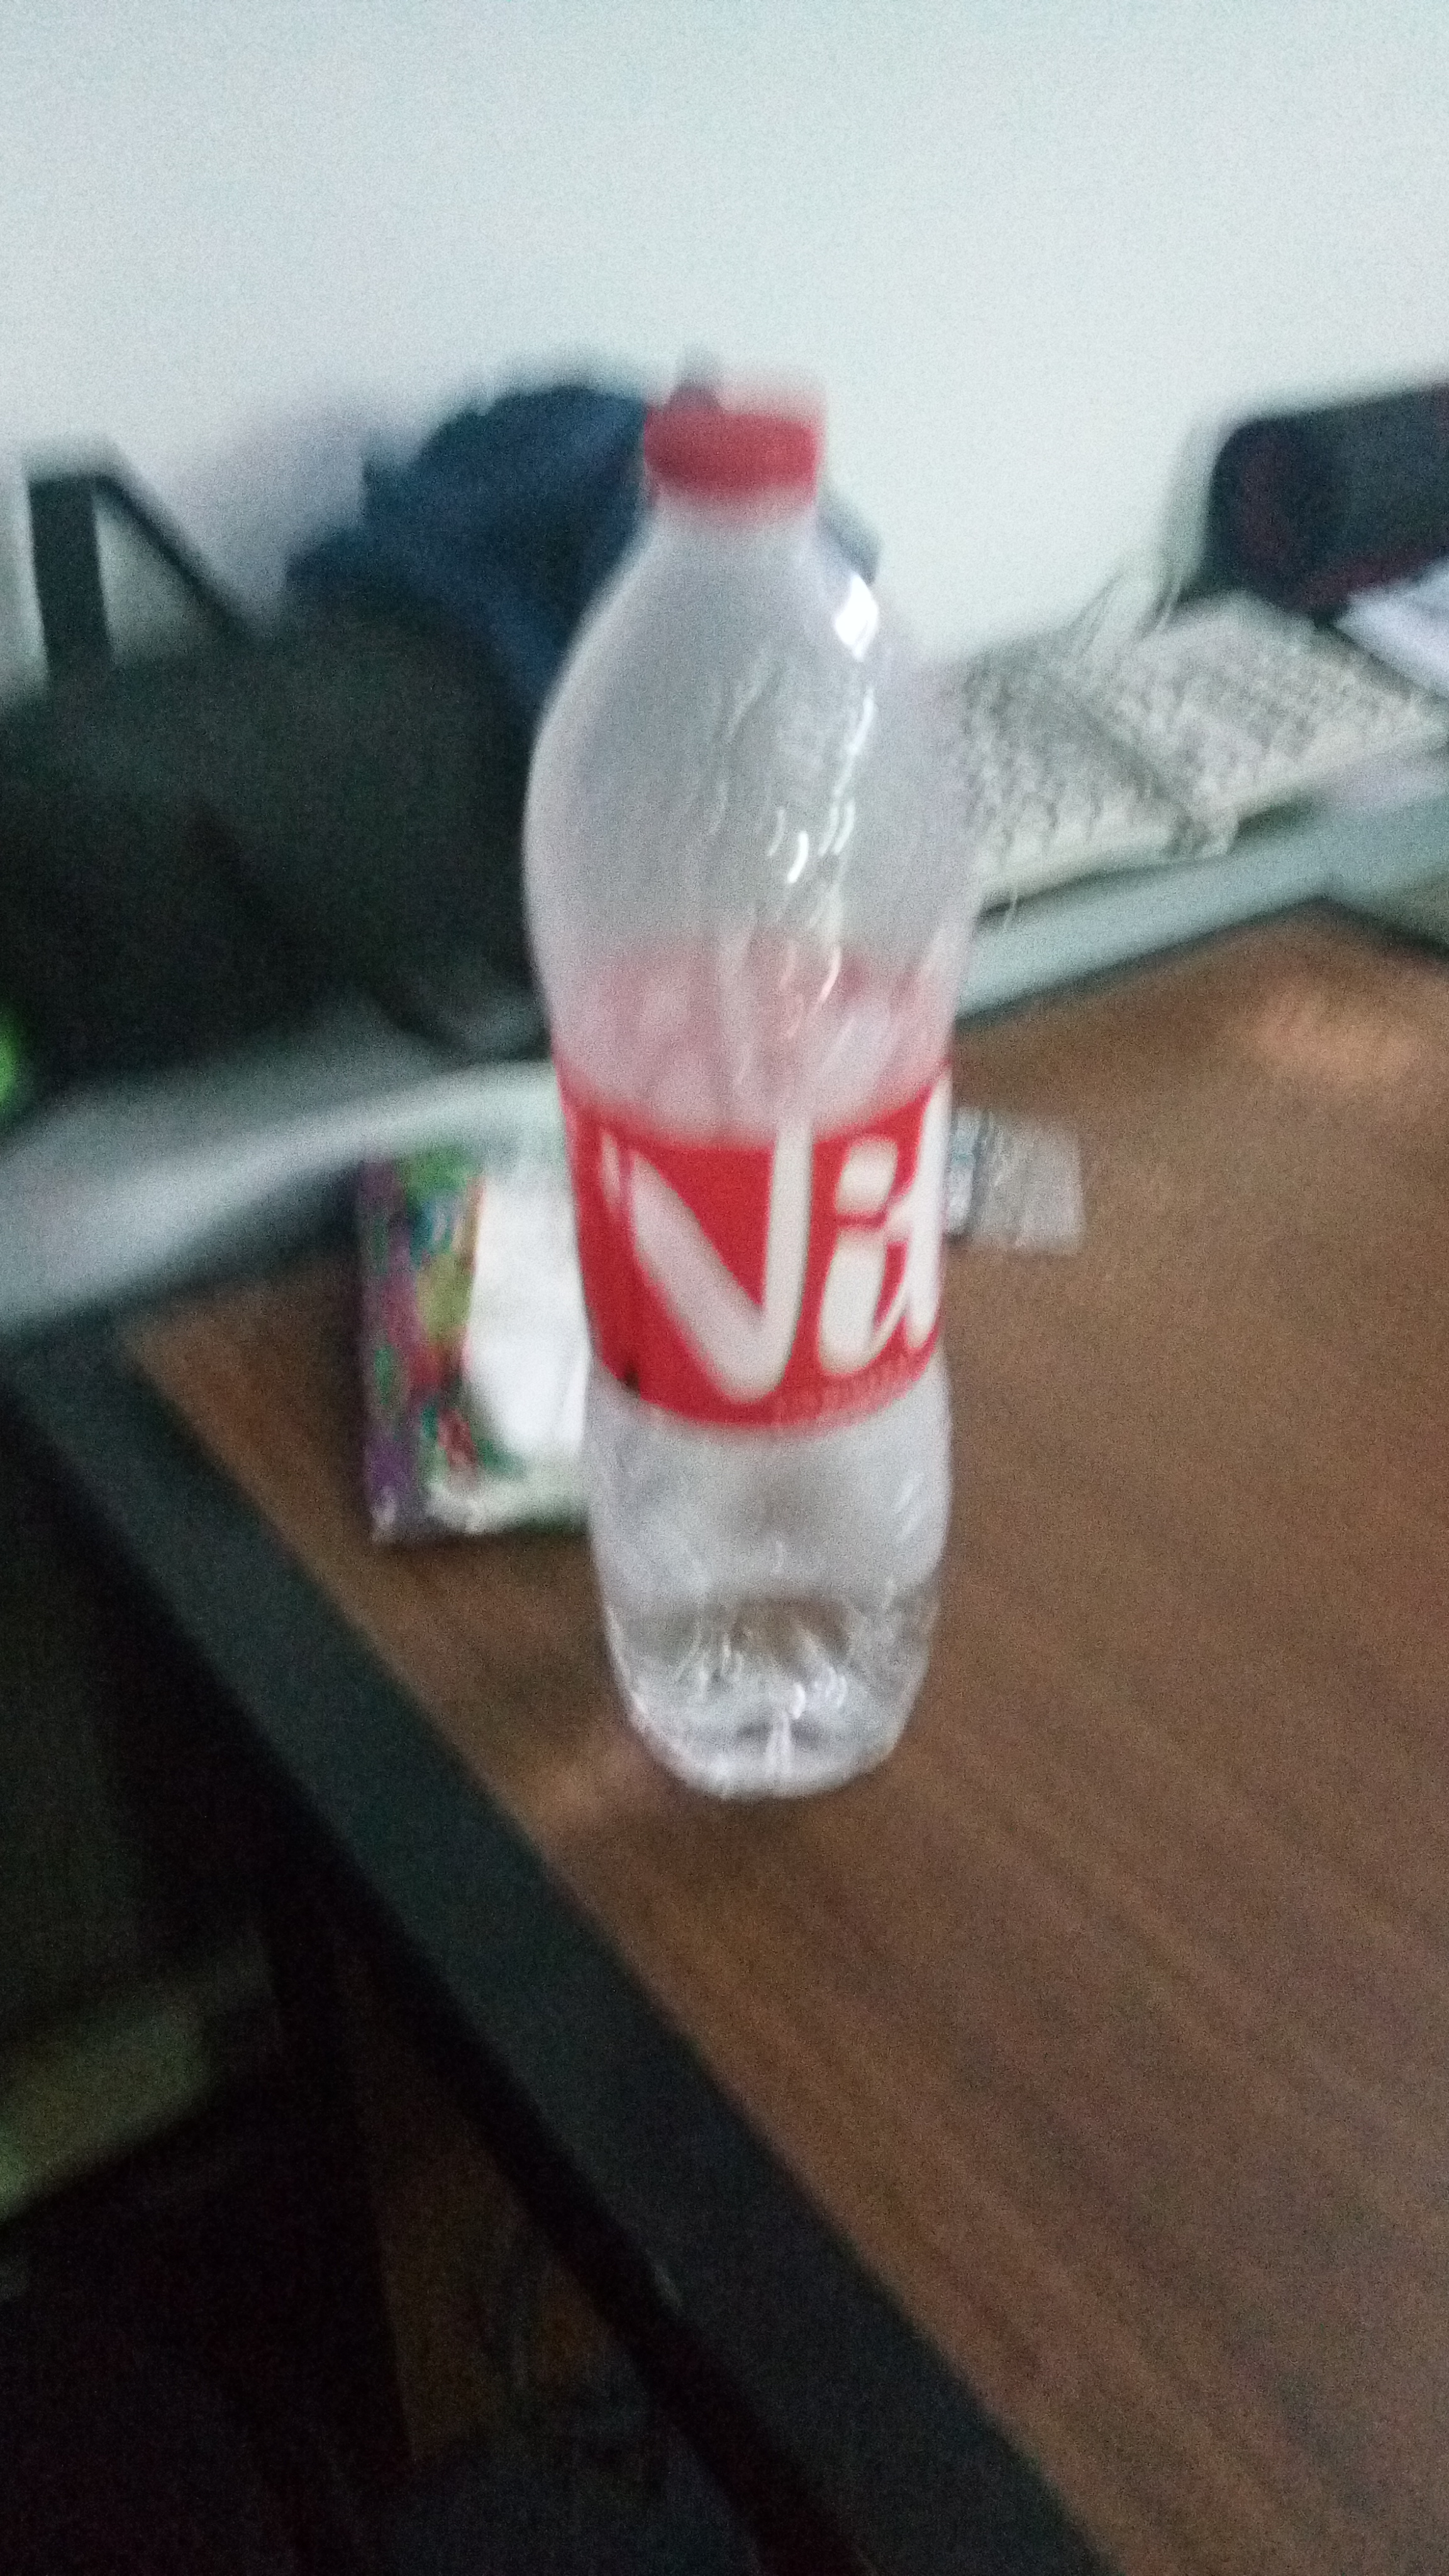botol: (494, 389, 998, 1796), (494, 389, 977, 1796), (527, 389, 977, 1796)
